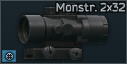Monstrum Compact prism scope 2x32: (0, 0, 127, 64)
